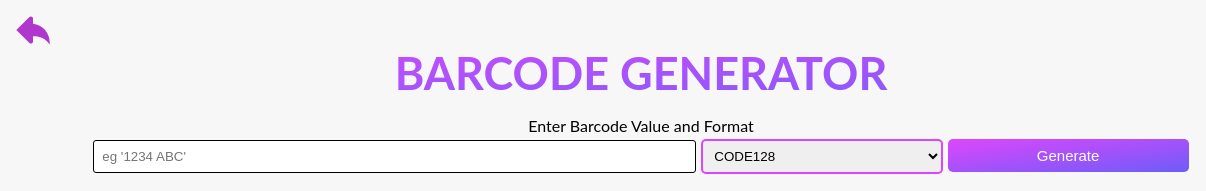
it: checking placeholder based on select option
The image size is (1206, 191).
Check: the field with placeholder "eg '1234 ABC'" is shown, box [93, 140, 696, 173]
# checking ean13 barcode format
Select "EAN13" in the dropdown: x=822, y=156 [701, 139, 942, 174]
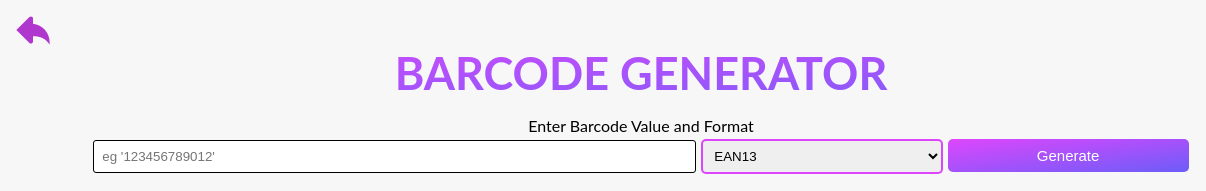
Check: the field with placeholder "eg '123456789012'" is shown, box [93, 140, 696, 173]
# checking pharmacode placeholder
Select "PHARMACODE" in the dropdown: x=822, y=156 [701, 139, 942, 174]
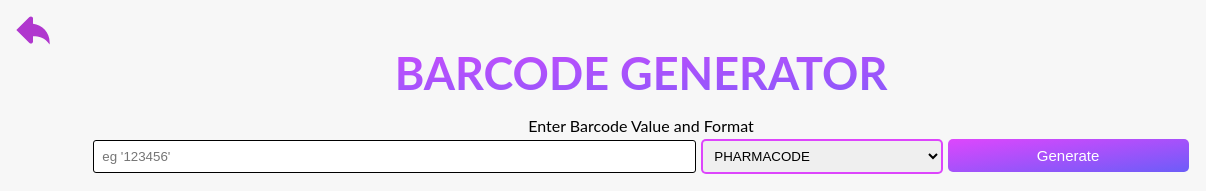
Check: the field with placeholder "eg '123456'" is shown, box [93, 140, 696, 173]
